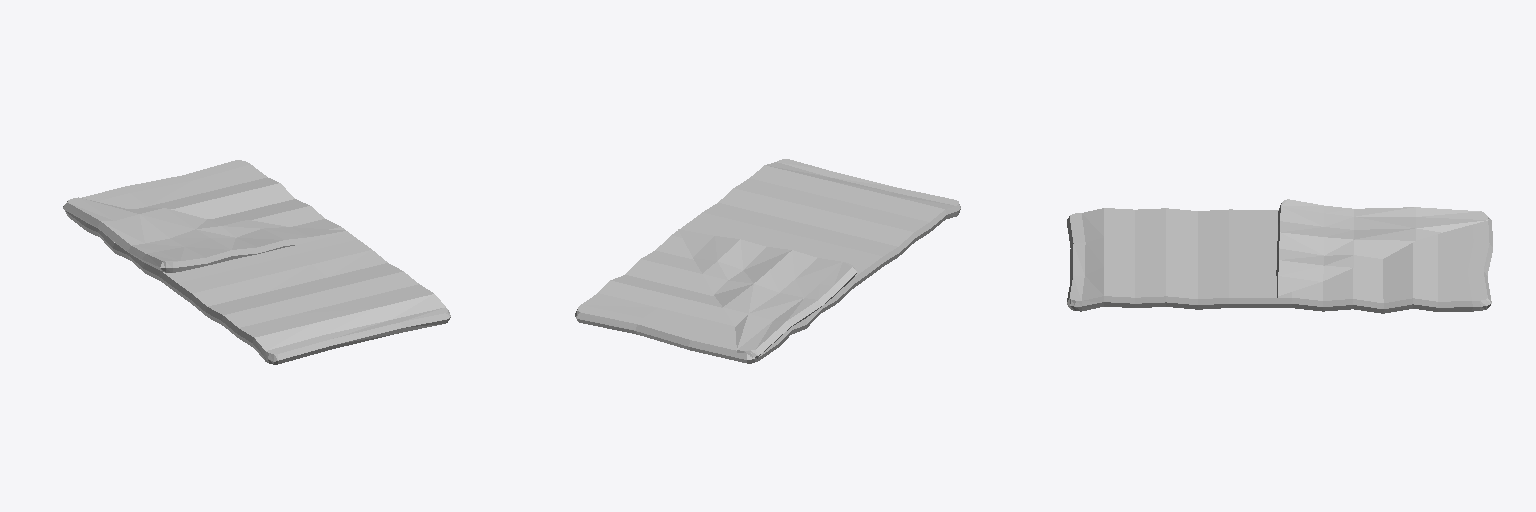
Rendered from SleepingBag.obj.
The picture shows the model from 3 angles: view 1: azimuth 30°, elevation 25°; view 2: azimuth 150°, elevation 25°; view 3: azimuth 270°, elevation 25°; orthographic projection.
Visible parts, largest first — view 1: defaultMaterial; view 2: defaultMaterial; view 3: defaultMaterial.
Boxes of the visible parts, x1,y1,x2,y2 form: defaultMaterial: [63, 160, 450, 364]; defaultMaterial: [575, 159, 960, 363]; defaultMaterial: [1067, 199, 1492, 313].
Size of the model in its own units: 1 by 0.1397 by 2.